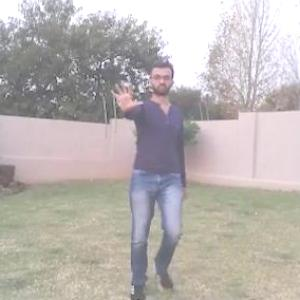follow_hand: (108, 73, 144, 111)
